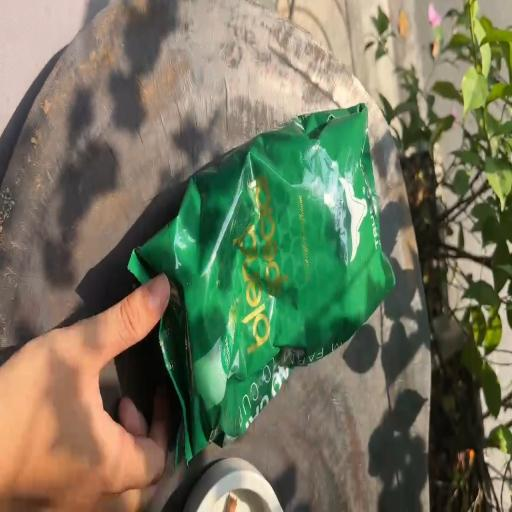cafe_xay: (129, 104, 394, 462)
